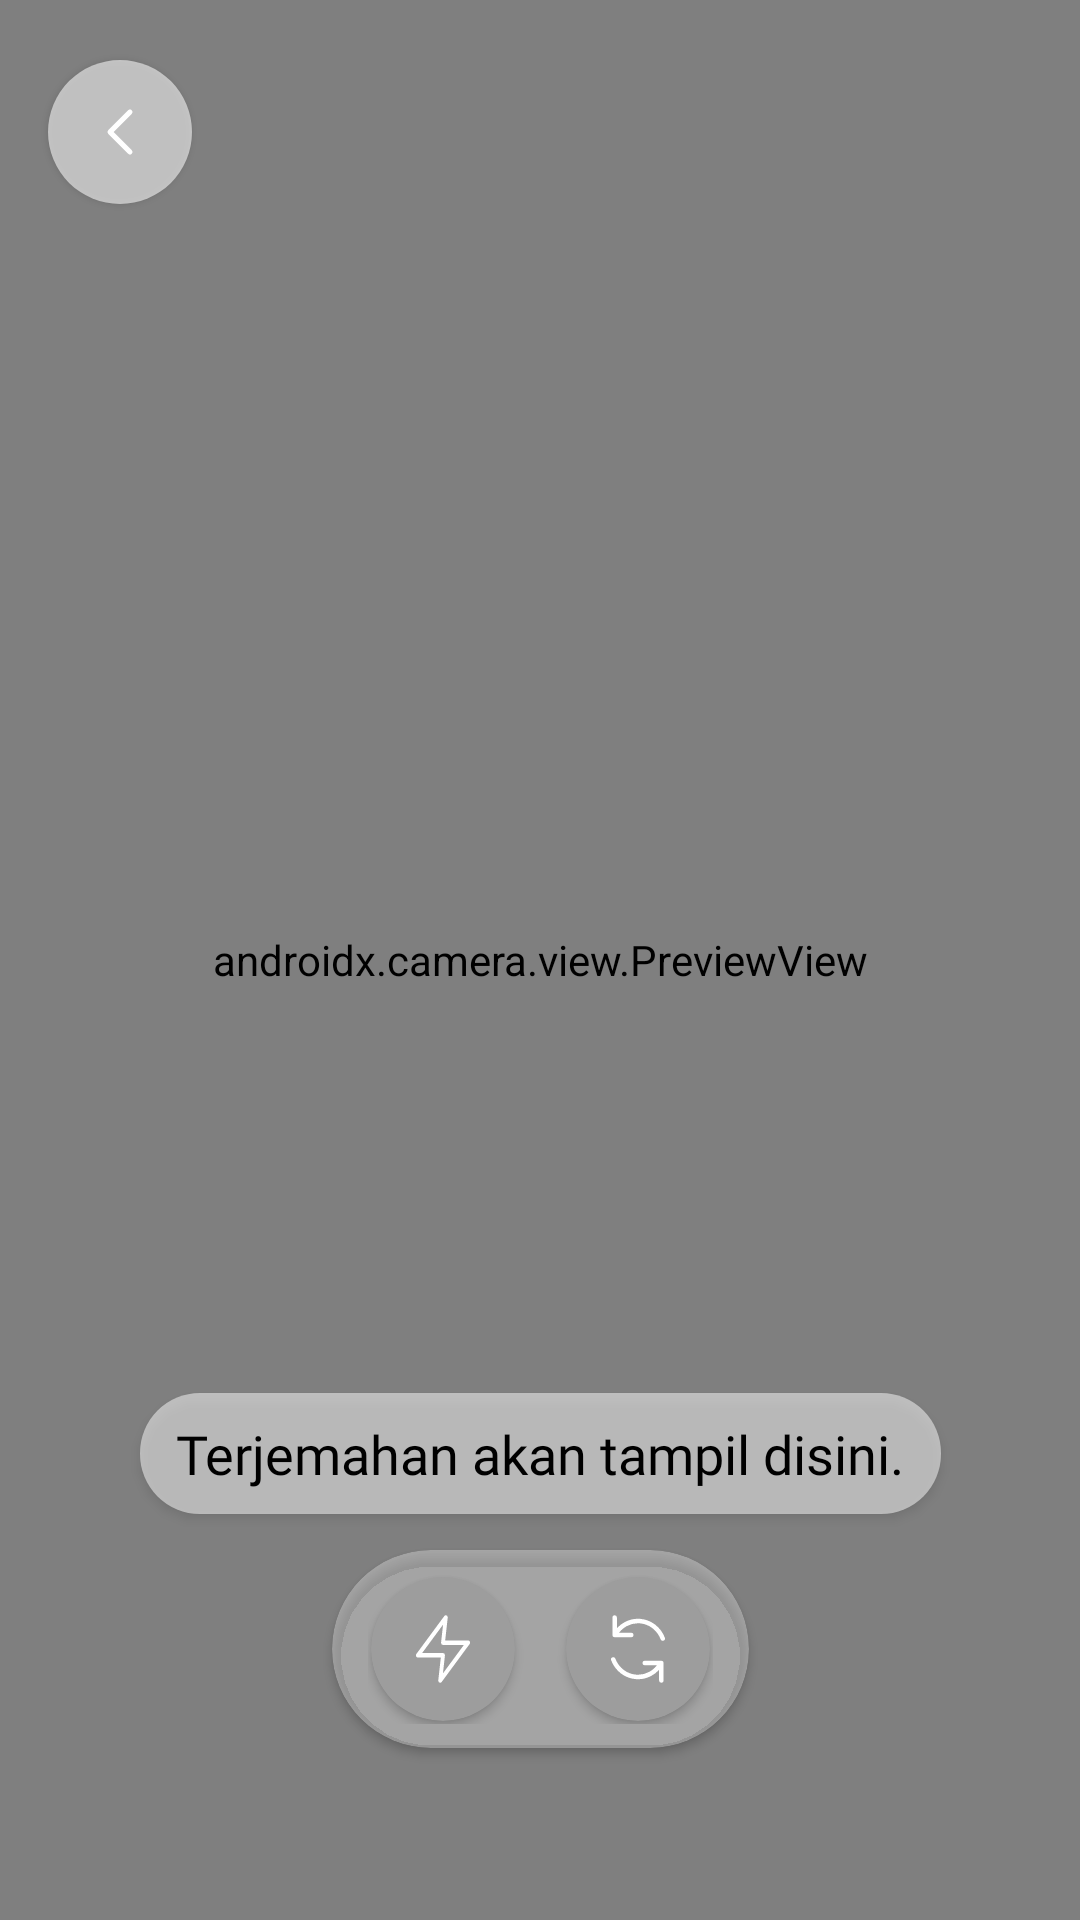

Locate icon controls on the screen. Image size 1080px×1920px, boxes as (x1, y1, x2, y2).
buttonback: (48, 60, 192, 204)
flashbuttoncamera: (388, 1615, 491, 1721)
switchbuttoncamera: (591, 1615, 693, 1721)
